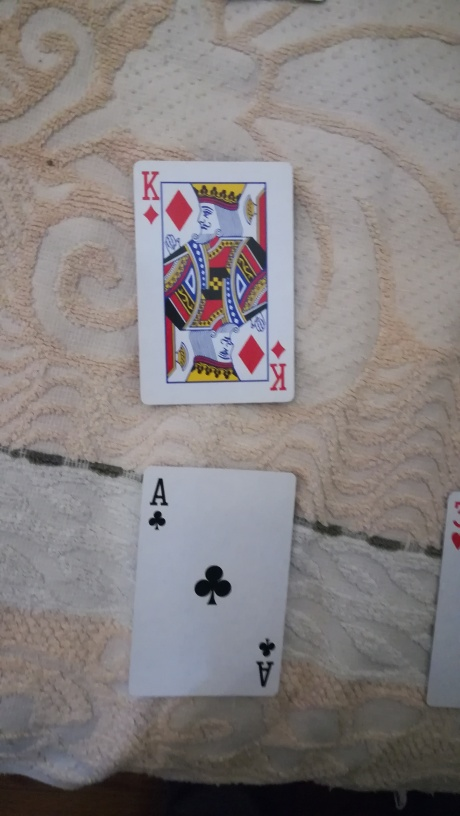fk k: (126, 150, 298, 413)
mh a: (132, 461, 299, 701)
